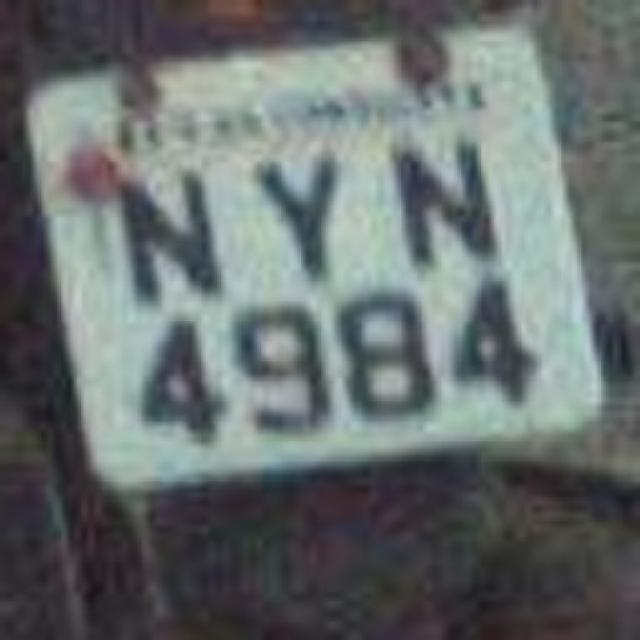4: (444, 260, 544, 420), (128, 300, 224, 452)
8: (332, 265, 440, 440)
9: (220, 285, 332, 440)
N: (376, 124, 512, 284), (104, 152, 228, 316)
Y: (244, 128, 364, 288)
